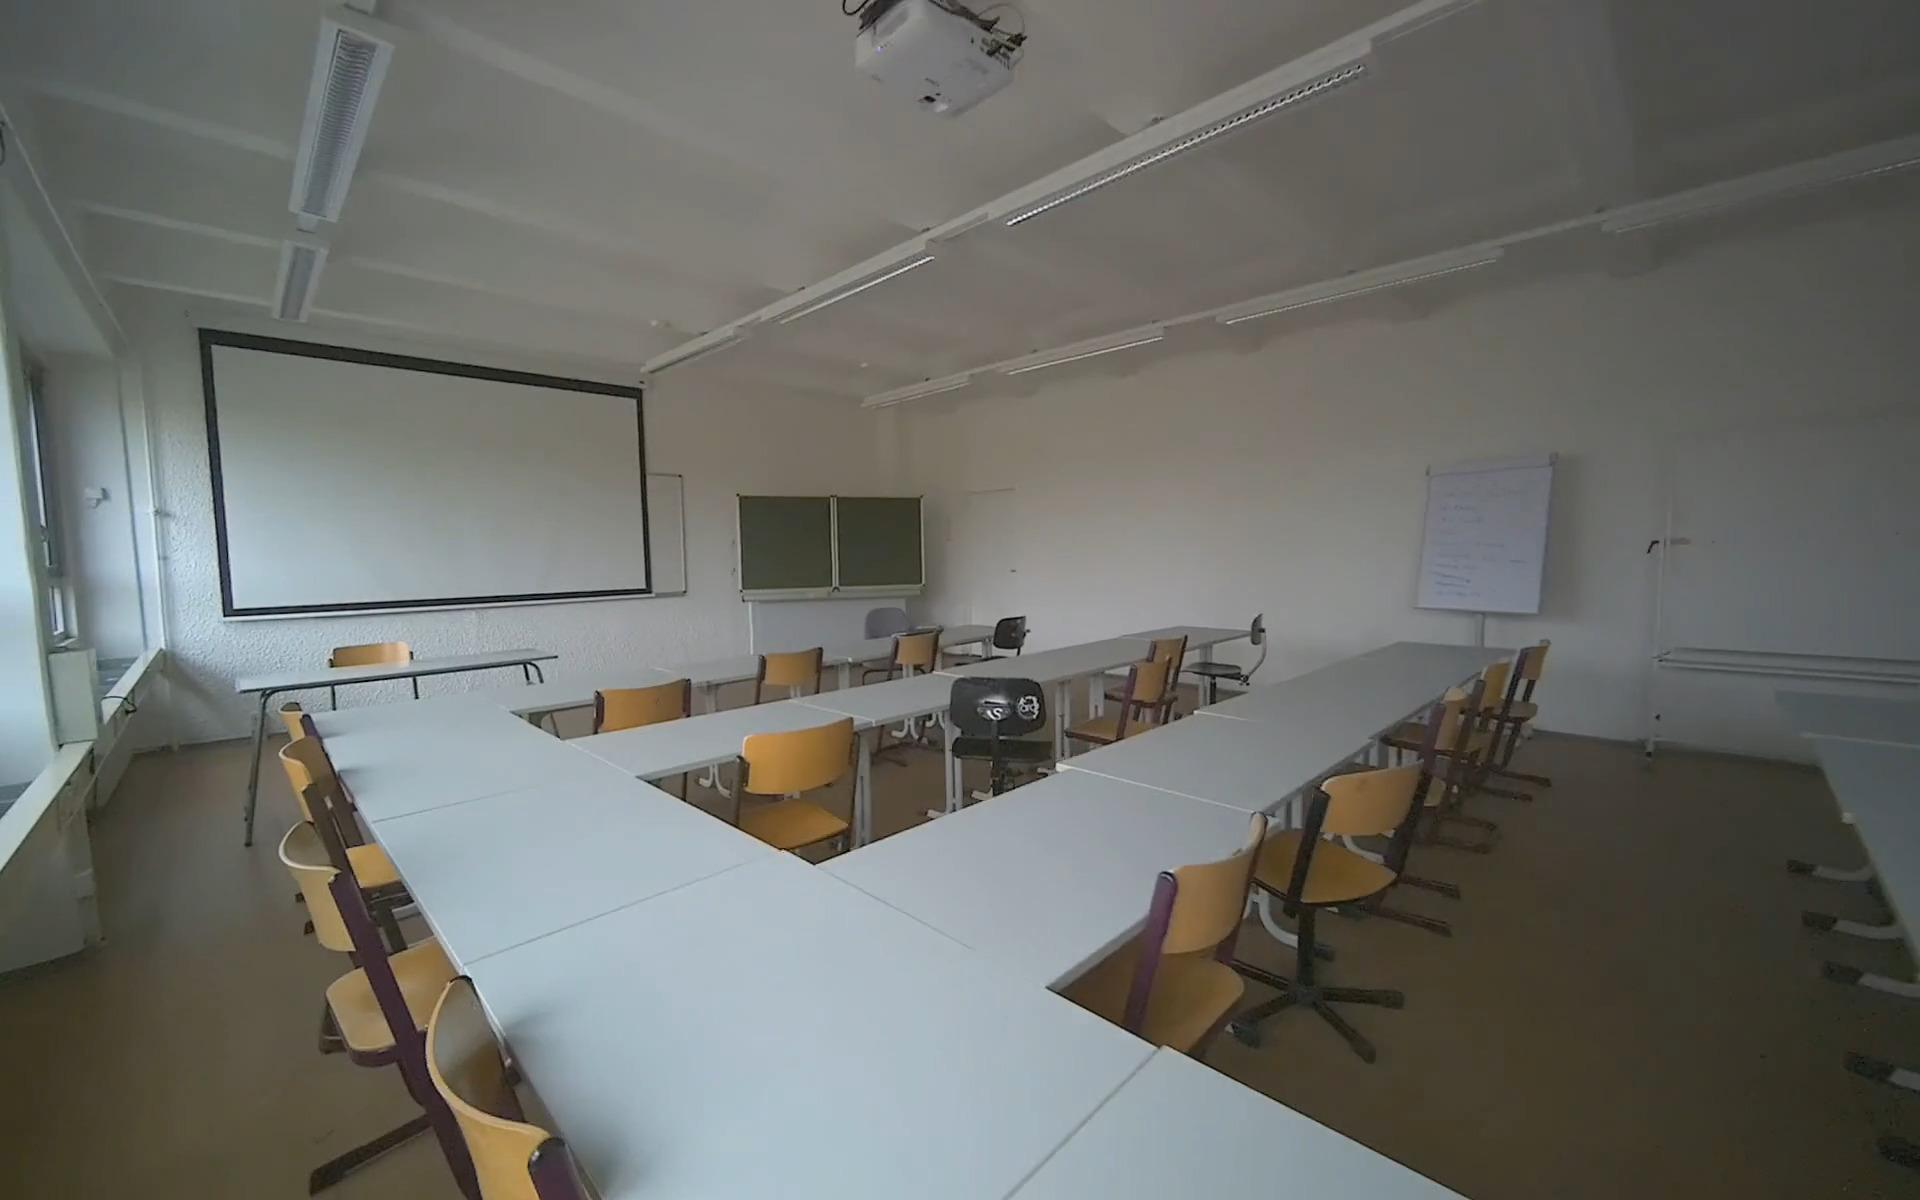chair: (1010, 818, 1268, 1163), (304, 845, 516, 1194), (275, 731, 491, 1060), (423, 977, 691, 1200), (1237, 771, 1431, 1058), (279, 700, 441, 944), (1321, 686, 1475, 939), (702, 713, 860, 935), (1374, 657, 1509, 859), (560, 676, 694, 875), (948, 672, 1067, 850), (1432, 636, 1552, 806), (1063, 654, 1175, 823), (325, 640, 440, 798), (728, 646, 828, 787), (1099, 630, 1192, 770), (1175, 615, 1274, 741), (851, 629, 940, 766), (965, 614, 1033, 722), (863, 604, 922, 719)
doors: (962, 478, 1031, 698)
light: (1006, 64, 1346, 229), (1608, 126, 1913, 238), (285, 8, 398, 235), (1222, 241, 1511, 328), (763, 256, 925, 330), (990, 332, 1153, 379), (1368, 0, 1493, 51), (640, 324, 740, 377), (271, 238, 330, 326), (861, 375, 958, 411)
